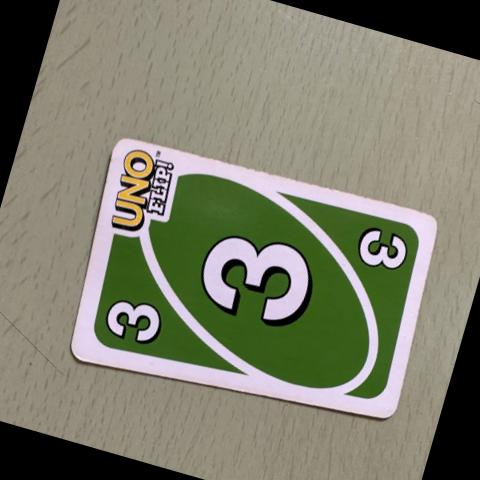lgreen-3: (81, 268, 185, 372)
